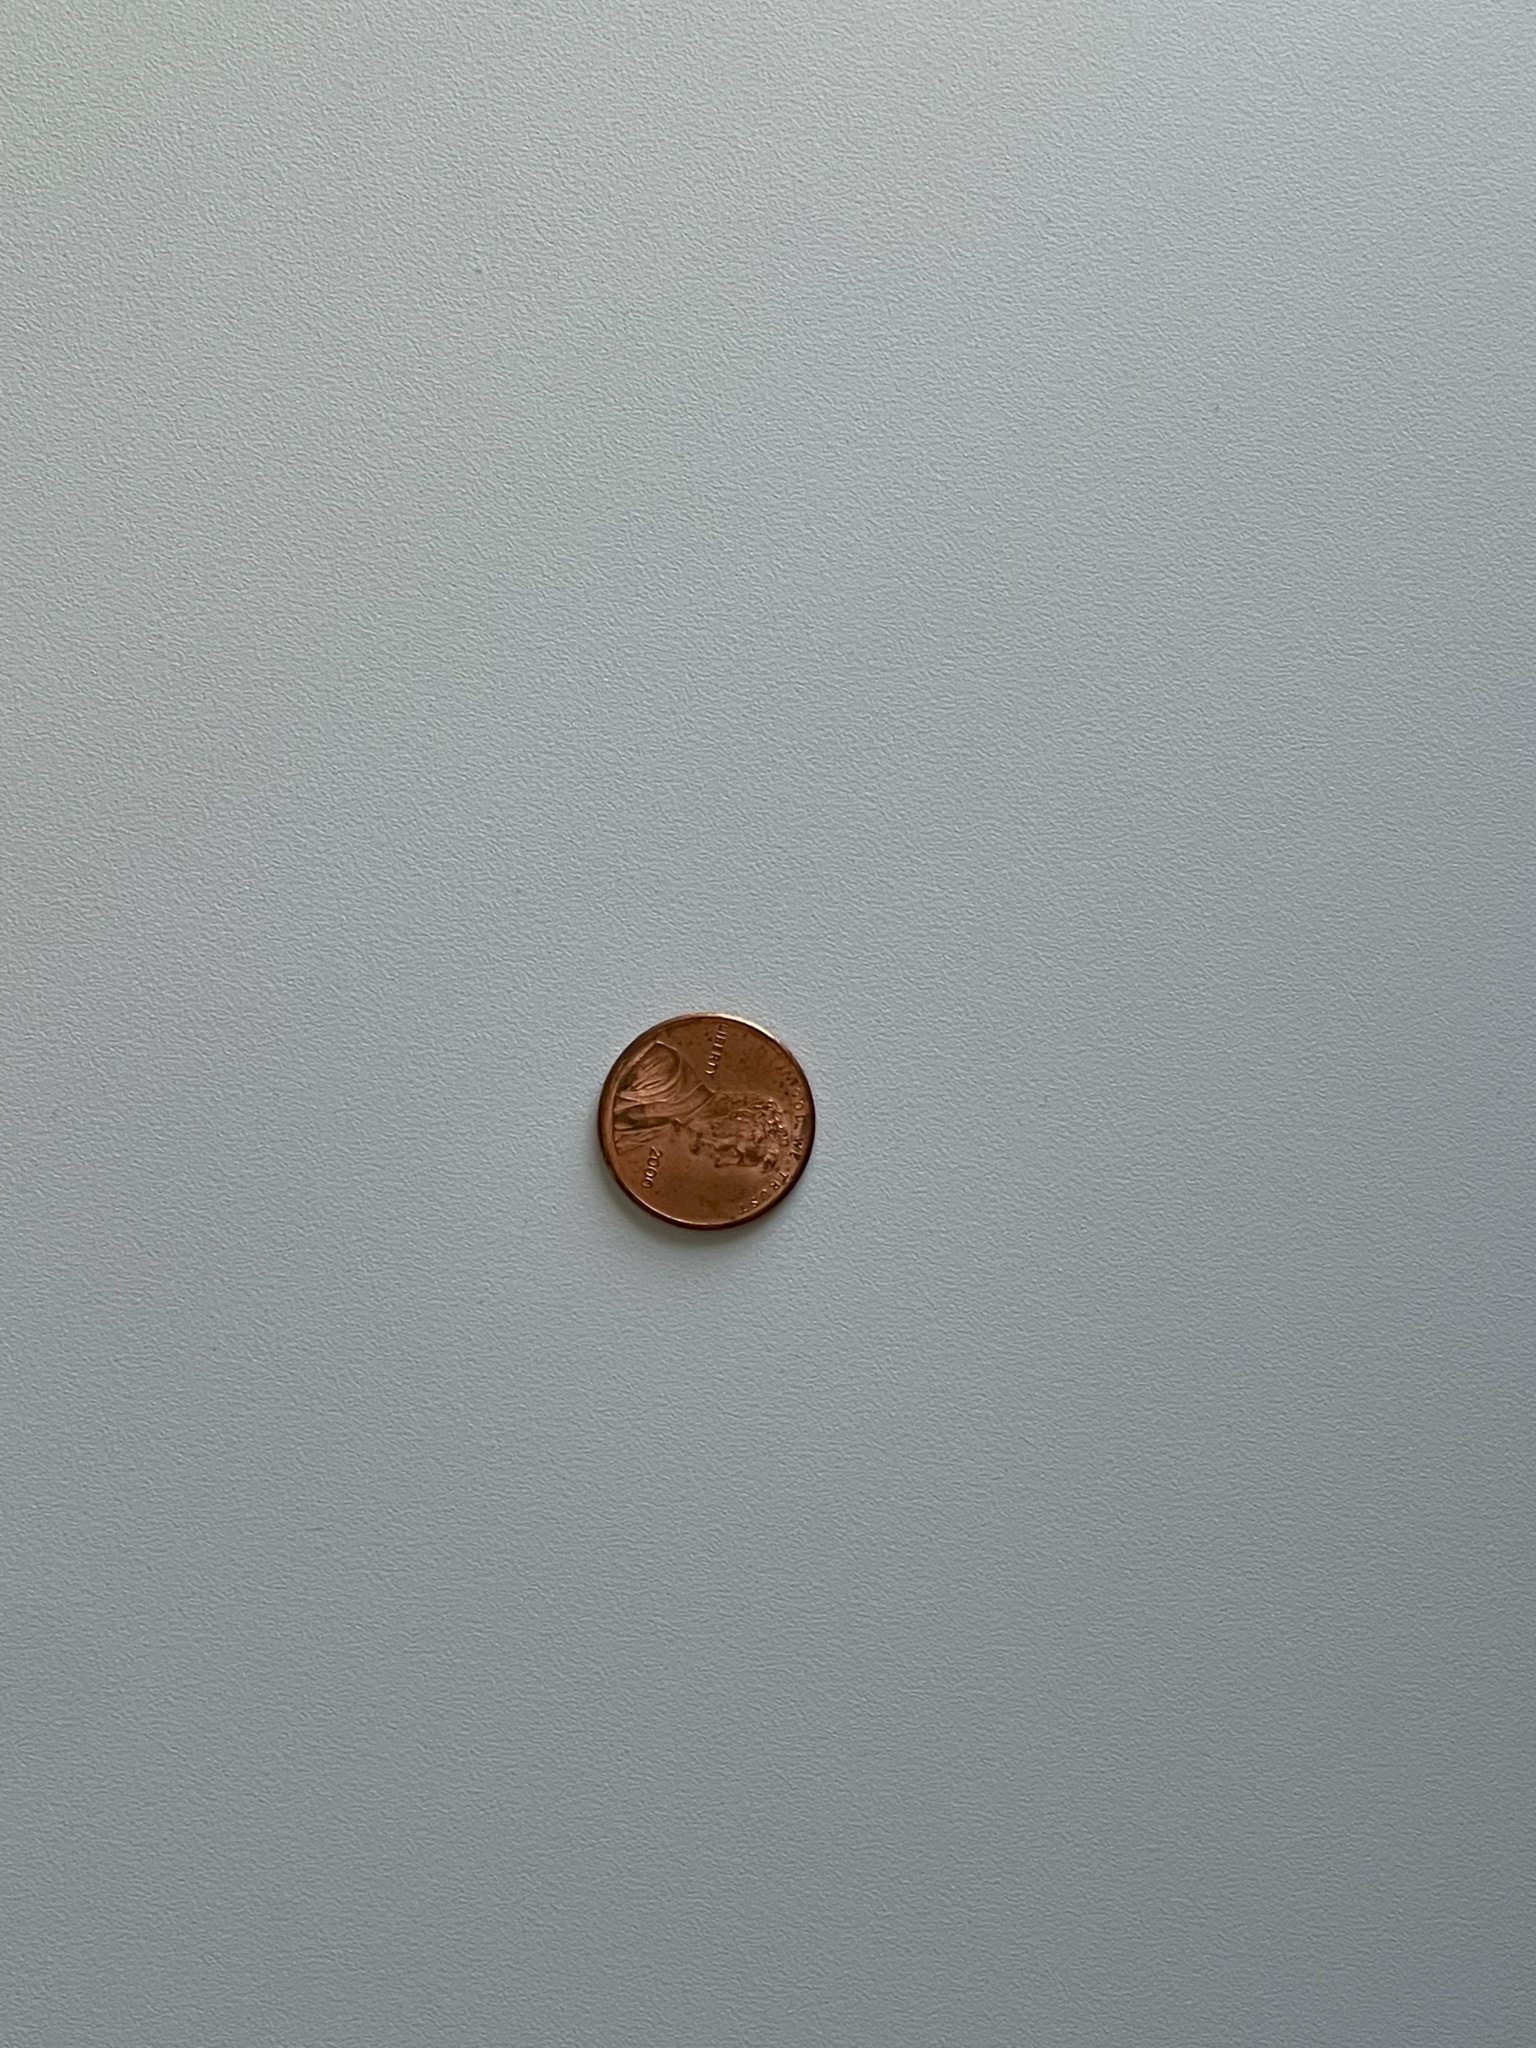penny: (586, 998, 828, 1237)
